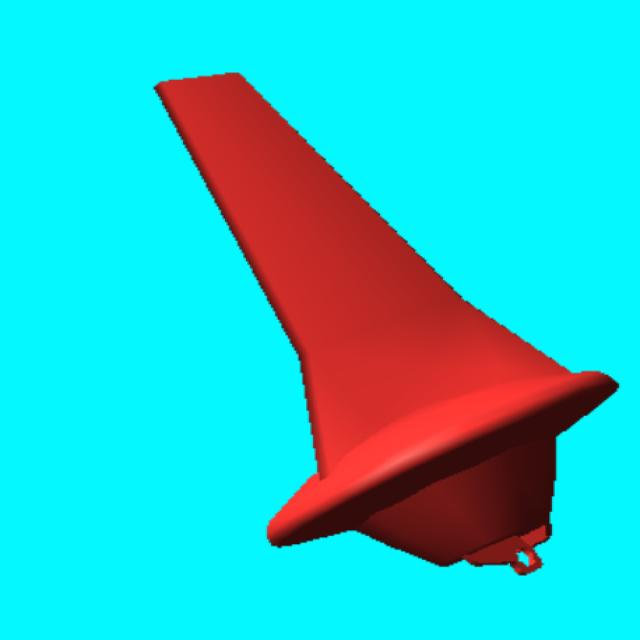RedBuoy: (156, 75, 617, 564)
